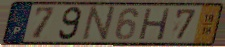6: (114, 6, 140, 41)
7: (33, 6, 56, 41), (175, 8, 196, 41)
9: (58, 6, 84, 41)
H: (137, 7, 173, 42)
N: (80, 5, 118, 43)
